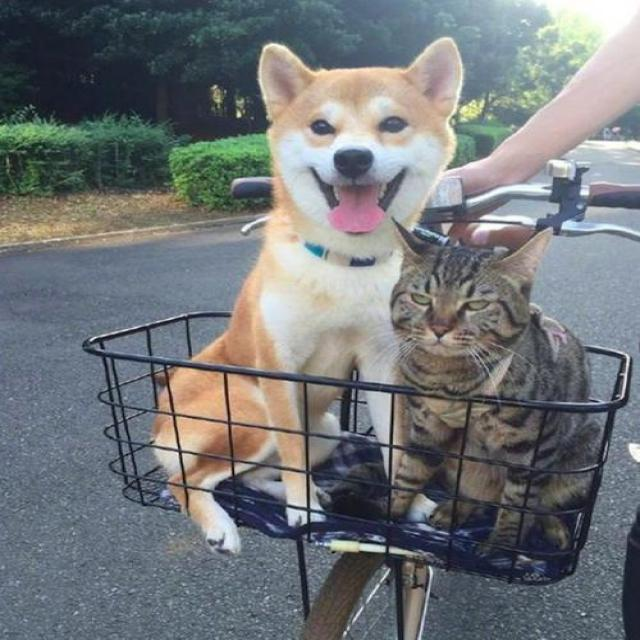cat: (376, 203, 560, 381)
dog: (214, 9, 479, 258)
